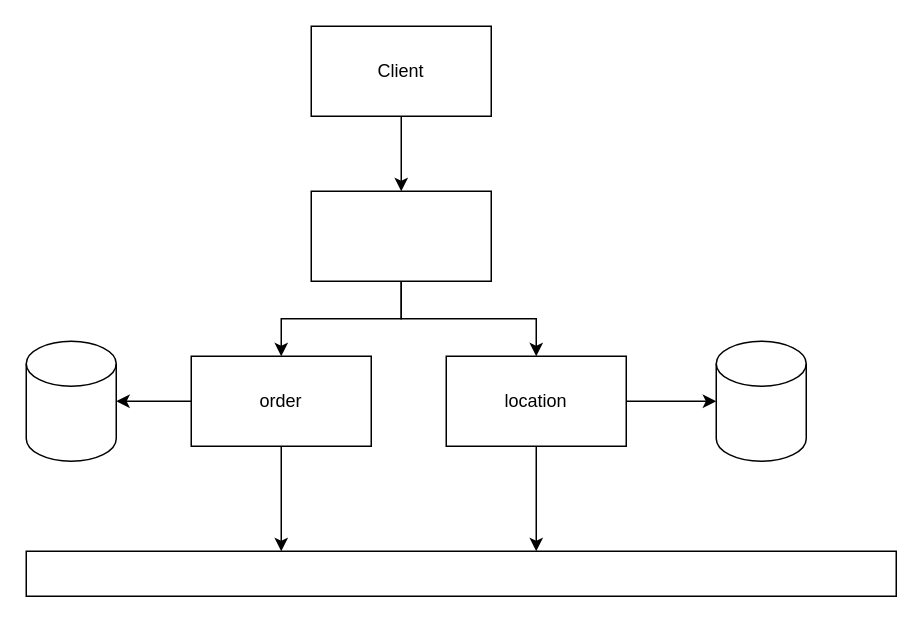
This 923x623 diagram has some shape labels left out. The box of each missing label's shape, as (x1, y1, x2, y2) in pixels:
api-gateway: (310, 190, 491, 281)
RabbitMQ: (25, 550, 896, 596)
